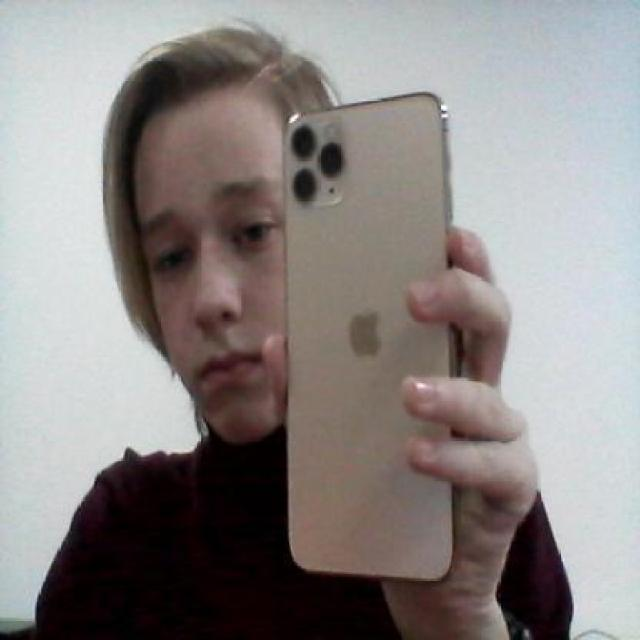lens: (287, 115, 350, 207)
phone: (276, 88, 464, 589)
